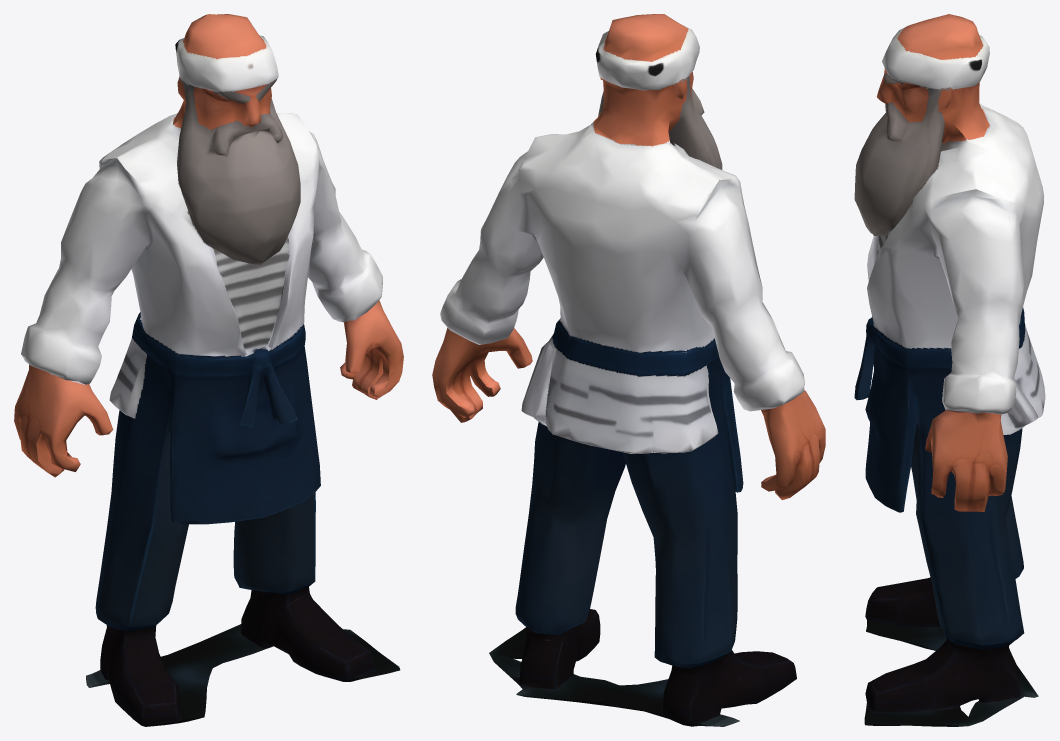
File: chef.glb
3 views of the same model, side by side, from view 1: azimuth 30°, elevation 25°; view 2: azimuth 150°, elevation 25°; view 3: azimuth 270°, elevation 25° (orthographic). The views are drawn at different scales.
Visible parts, largest first — view 1: world; view 2: world; view 3: world.
Part boxes in pixels (x1,y1,x2,y2): world: (14, 14, 403, 726); world: (432, 14, 825, 726); world: (854, 14, 1045, 726).
Bounding box in the file's own units: 0.5834 × 0.9999 × 0.2708.
1 material, 1 textured.
